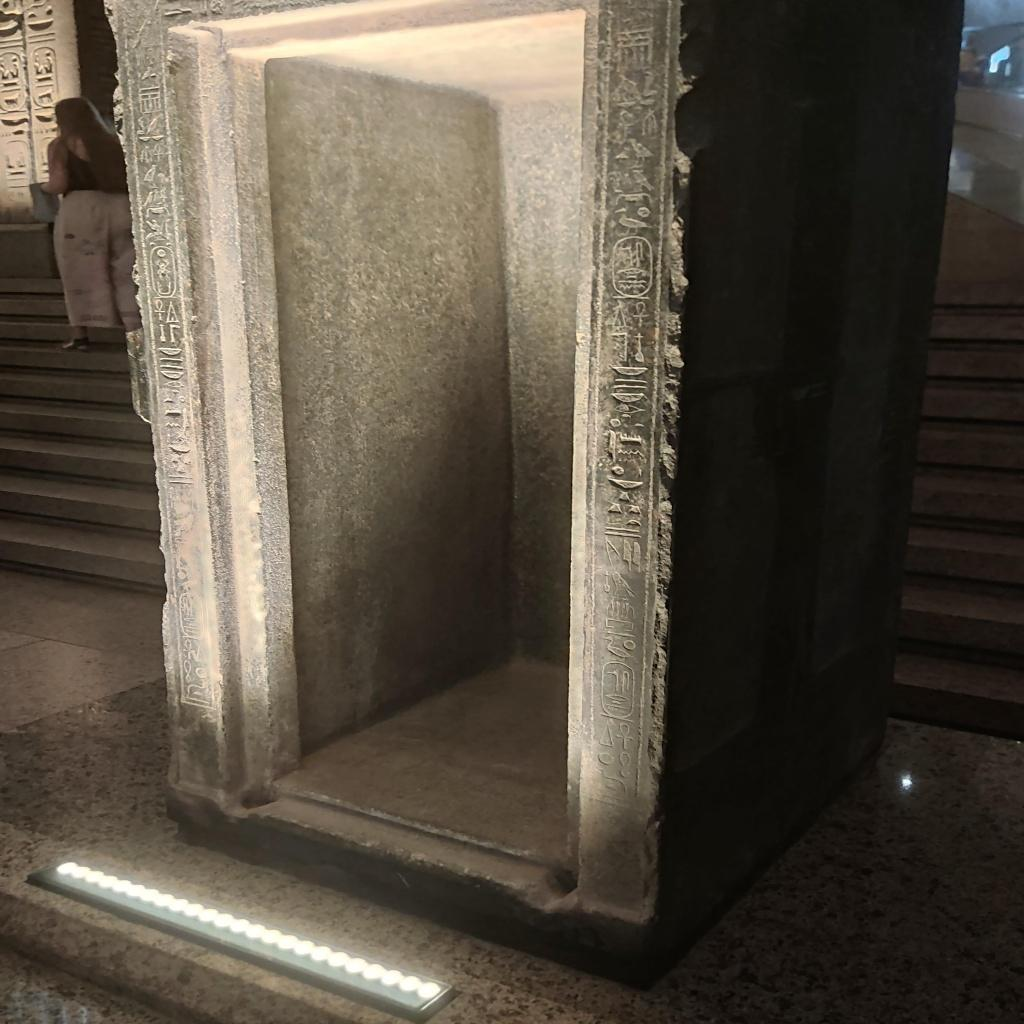Naos of Senwosert I: (104, 0, 944, 903)
